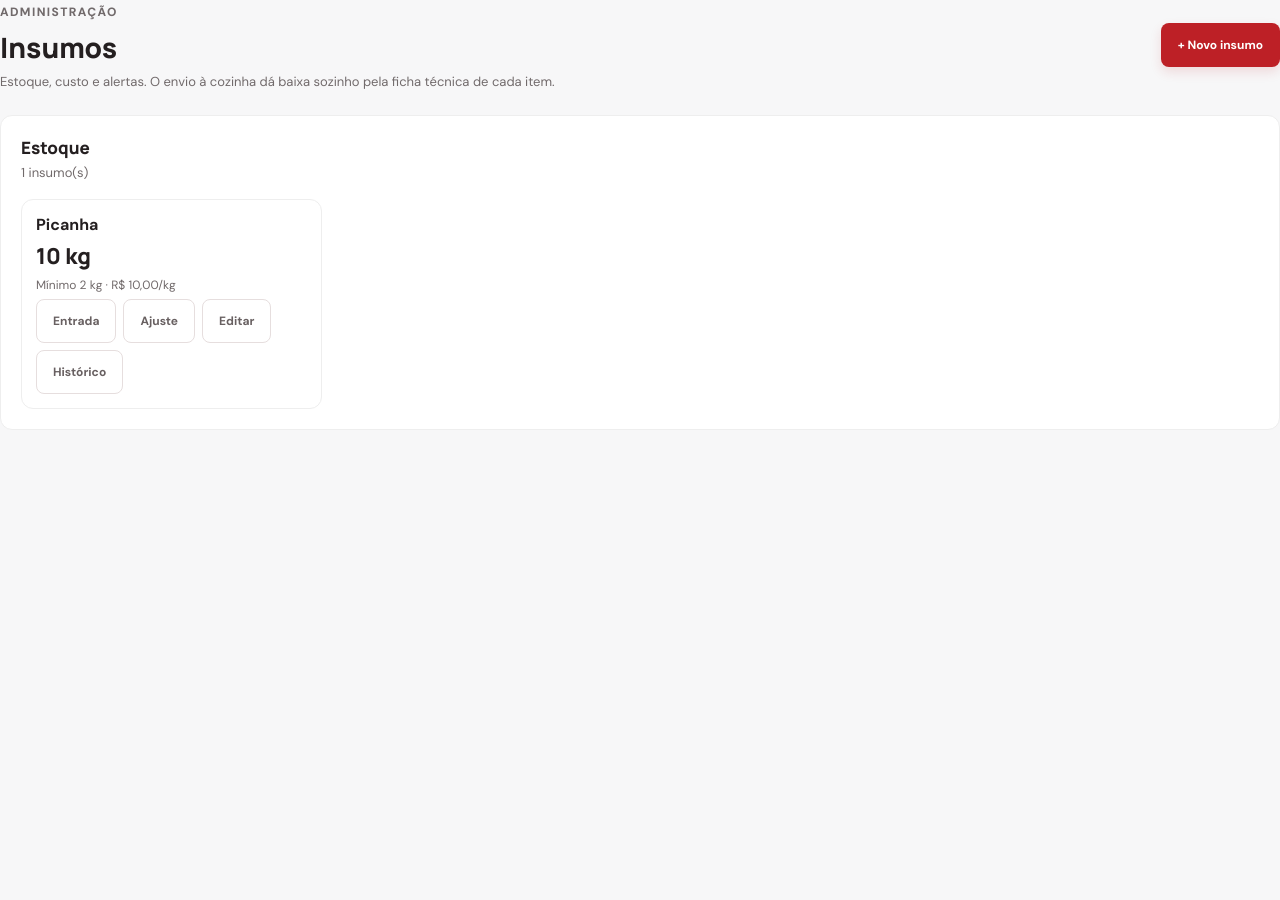
Test case: Insumos, ficha técnica e CMV (RN-15) › entrada gravada fecha o modal mesmo se o recarregamento da lista falhar (sem envio duplicado)
Click the button "Entrada" at (76, 321), box [36,299,116,343]
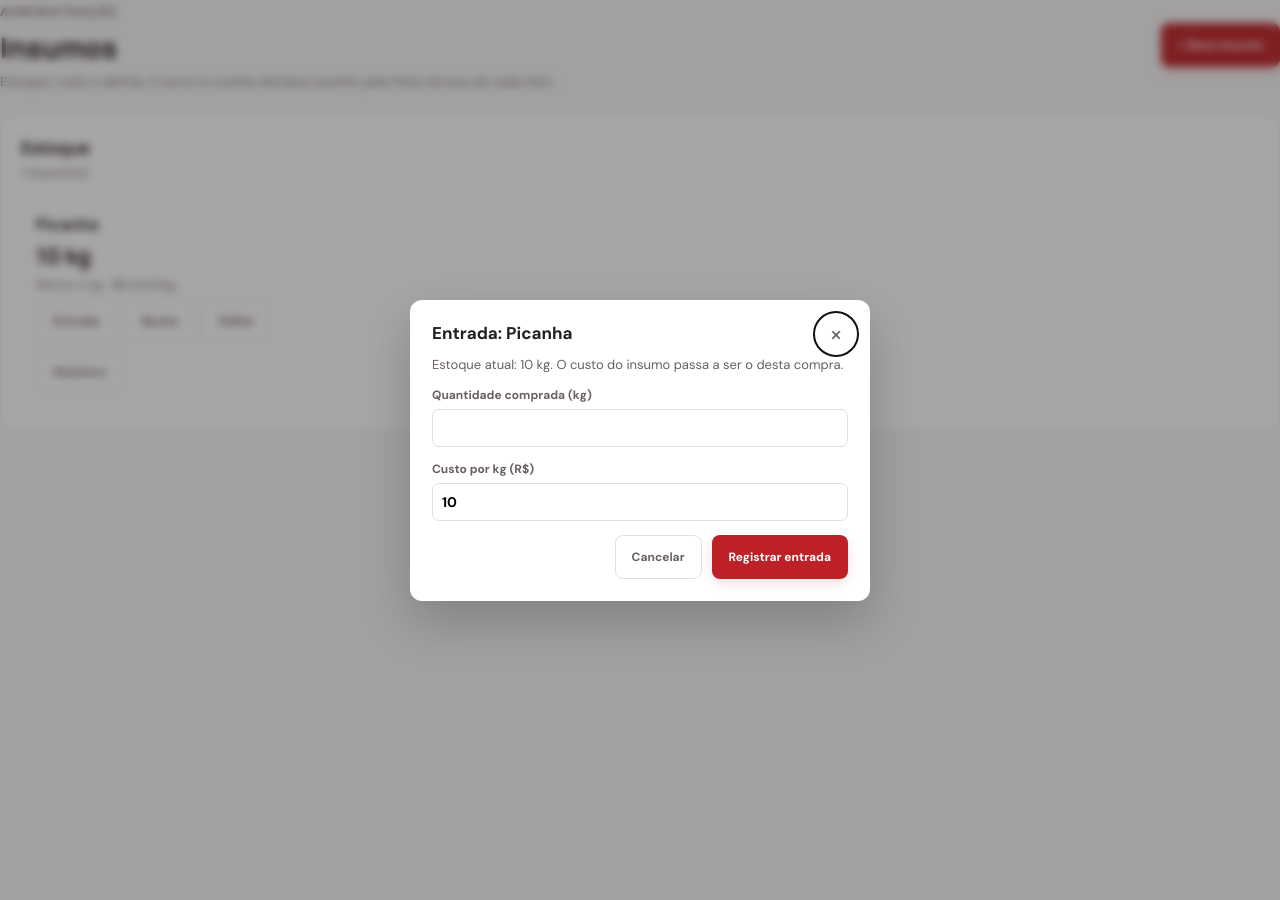
Type "5" into the number field labelled "Quantidade comprada (kg)" at (640, 428), box [432,408,848,446]
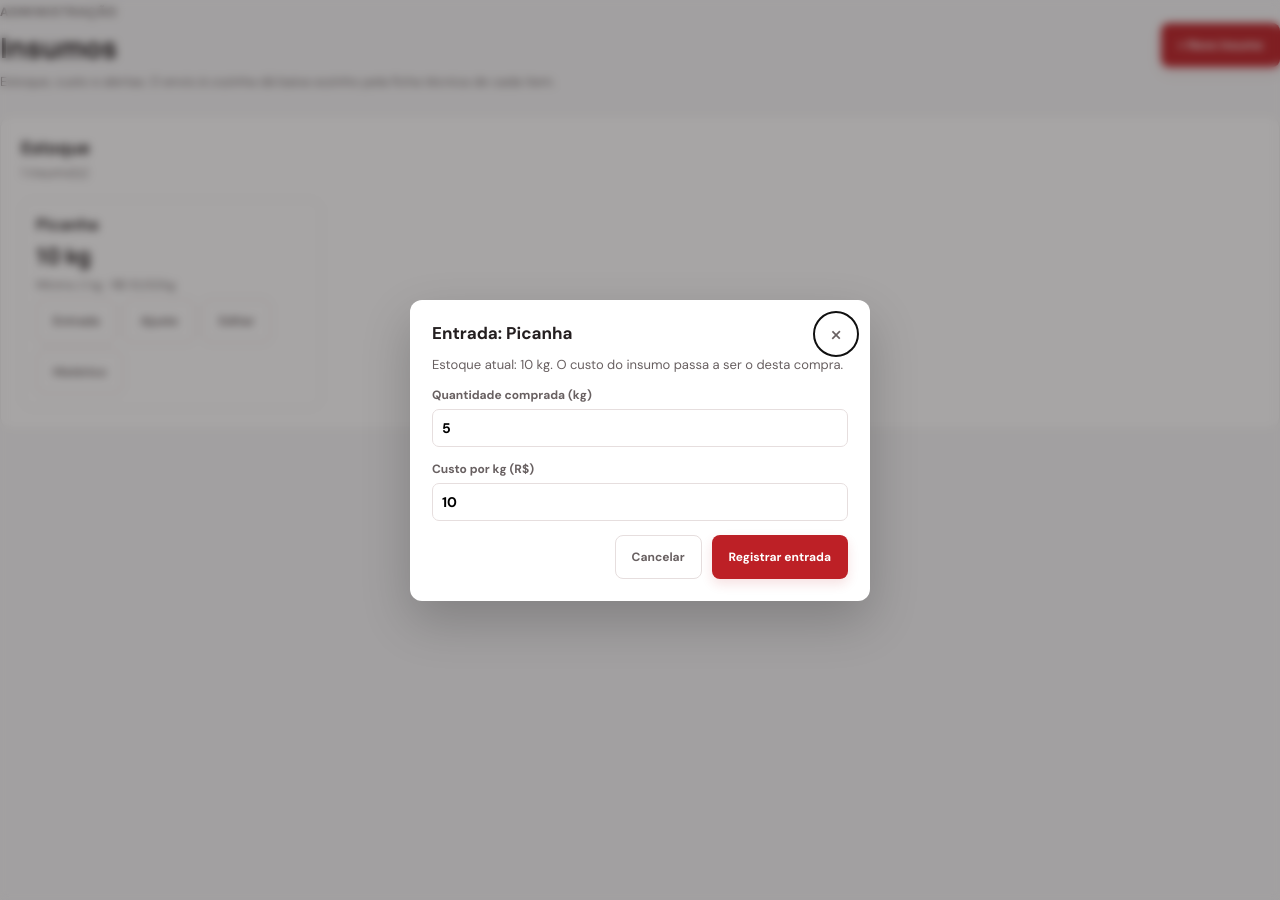
Click the button "Registrar entrada" at (780, 556), box [712,534,848,578]
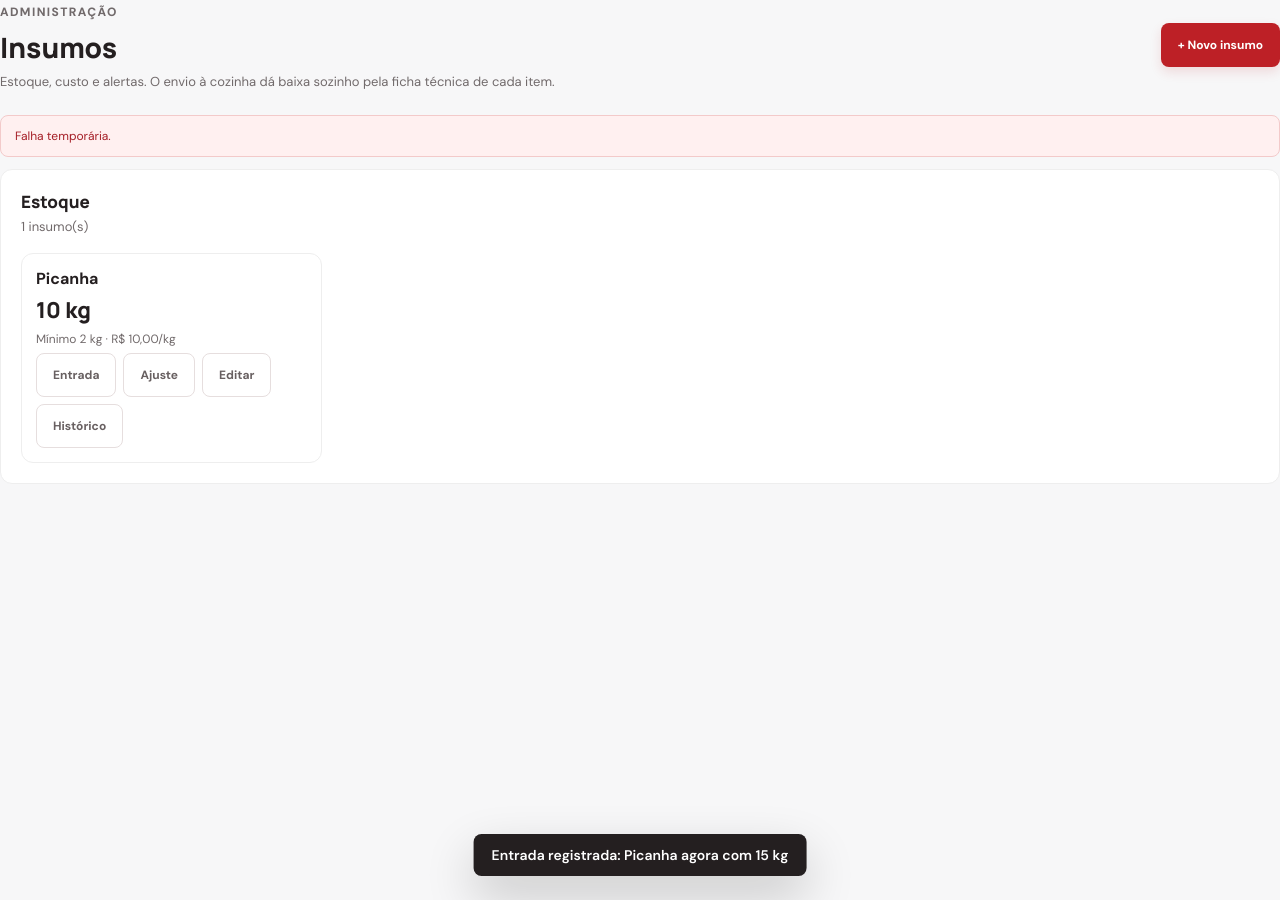
Now the message reads "Entrada registrada: Picanha agora com 15 kg", box [492,846,788,864]
Now the dialog is gone
Now the text "Falha temporária." is shown, box [0,115,1279,157]
